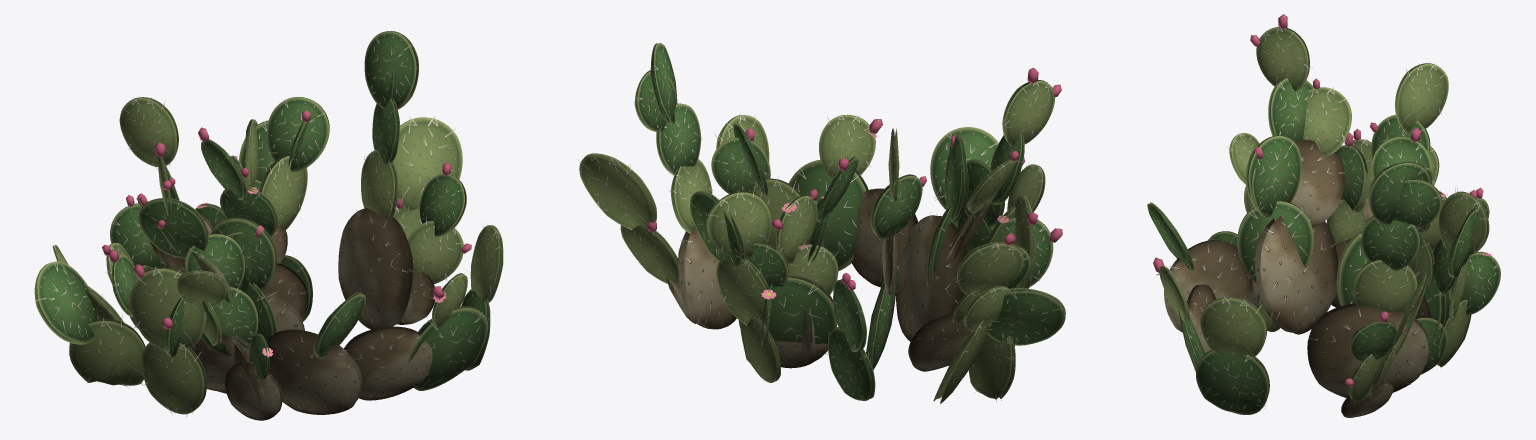
Rendered from mm6_deco_cac15.glb.
The picture shows the model from 3 angles, left to right: view 1: azimuth 30°, elevation 25°; view 2: azimuth 150°, elevation 25°; view 3: azimuth 270°, elevation 25°; orthographic projection. The views are drawn at different scales.
Parts seen in each view (by area): view 1: Cactus; view 2: Cactus; view 3: Cactus.
Part boxes in pixels (<box>): Cactus: <box>34,31,503,420</box>; Cactus: <box>577,43,1065,404</box>; Cactus: <box>1147,14,1500,417</box>.
Size of the model in its own units: 3.23 by 1.77 by 2.27.
Materials: 1 (1 with a texture image).
